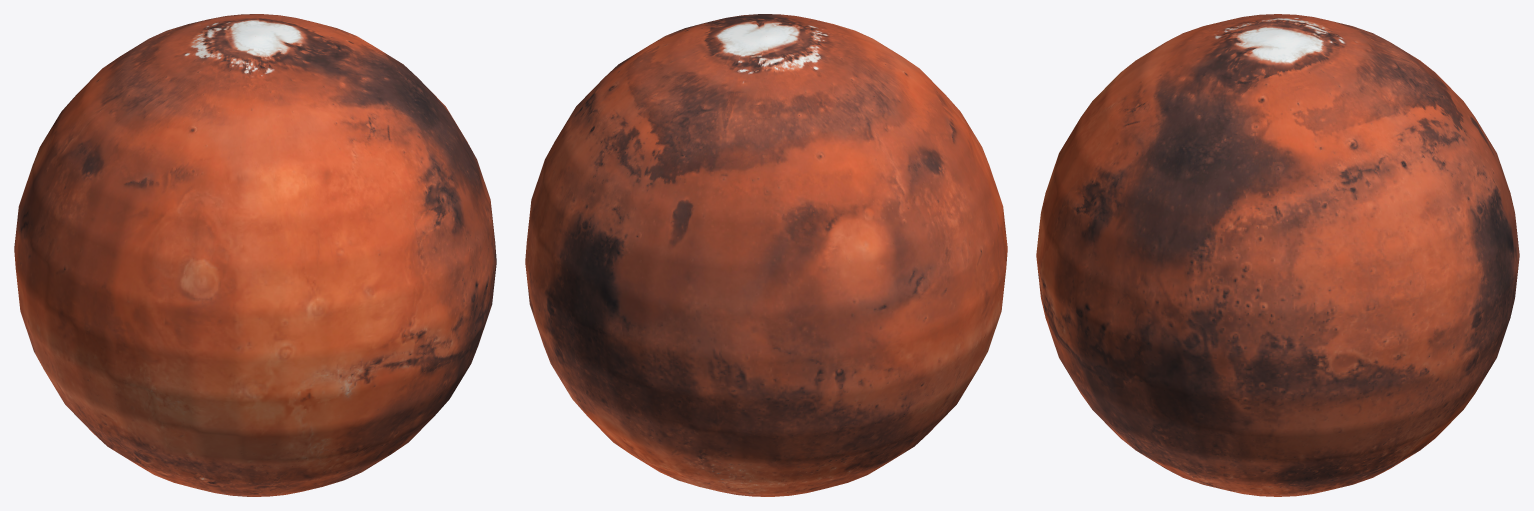
Rendered from mars.glb.
The picture shows the model from 3 angles, left to right: view 1: azimuth 30°, elevation 25°; view 2: azimuth 150°, elevation 25°; view 3: azimuth 270°, elevation 25°; orthographic projection.
Parts seen in each view (by area): view 1: Sphere; view 2: Sphere; view 3: Sphere.
Boxes of the visible parts, bbox=[...] form: Sphere: bbox=[14, 14, 496, 496]; Sphere: bbox=[525, 14, 1007, 496]; Sphere: bbox=[1036, 14, 1519, 496].
Bounding box in the file's own units: 2 × 2 × 2.
1 material, 1 textured.
